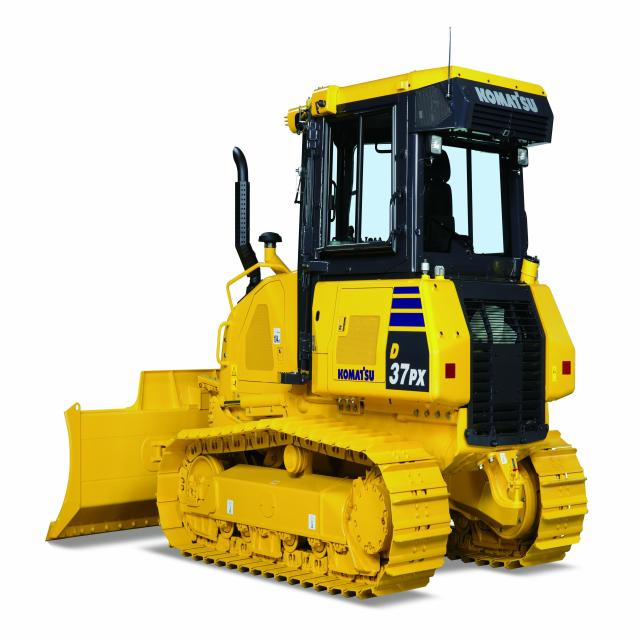Bulldozer: (29, 37, 594, 604)
